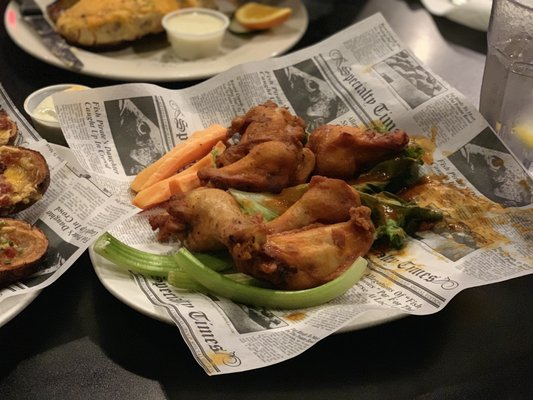pizza: (478, 0, 533, 179), (161, 7, 230, 61)
sushi: (162, 7, 229, 61)
